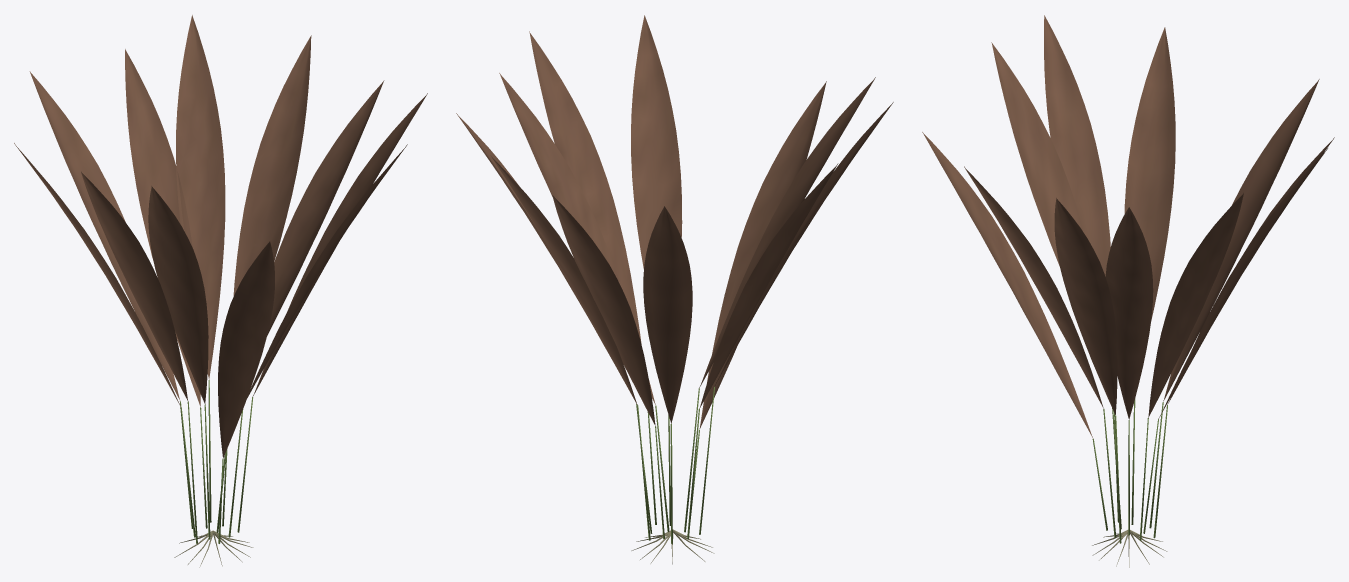
The model's file is redflame-mobile.glb.
The picture shows the model from 3 angles, left to right: view 1: azimuth 30°, elevation 25°; view 2: azimuth 150°, elevation 25°; view 3: azimuth 270°, elevation 25°; orthographic projection. The views are drawn at different scales.
Visible parts, largest first — view 1: blade, petiole, anchoring-root; view 2: blade, petiole; view 3: blade, petiole, anchoring-root.
Part boxes in pixels (x1=…): blade: x1=14, y1=15, x2=427, y2=458; petiole: x1=180, y1=380, x2=253, y2=543; anchoring-root: x1=174, y1=530, x2=253, y2=567; blade: x1=456, y1=15, x2=893, y2=428; petiole: x1=636, y1=386, x2=714, y2=543; blade: x1=922, y1=15, x2=1334, y2=438; petiole: x1=1092, y1=399, x2=1167, y2=543; anchoring-root: x1=1092, y1=530, x2=1167, y2=567.
Bounding box in the file's own units: 0.7536 × 0.9123 × 0.7552.
